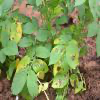Potato leaf early blight: (48, 44, 64, 65), (52, 71, 69, 89), (52, 57, 68, 76), (9, 21, 22, 44), (33, 58, 50, 75), (15, 55, 31, 73), (65, 49, 79, 69), (1, 19, 12, 40), (69, 74, 80, 88), (53, 35, 68, 45)
